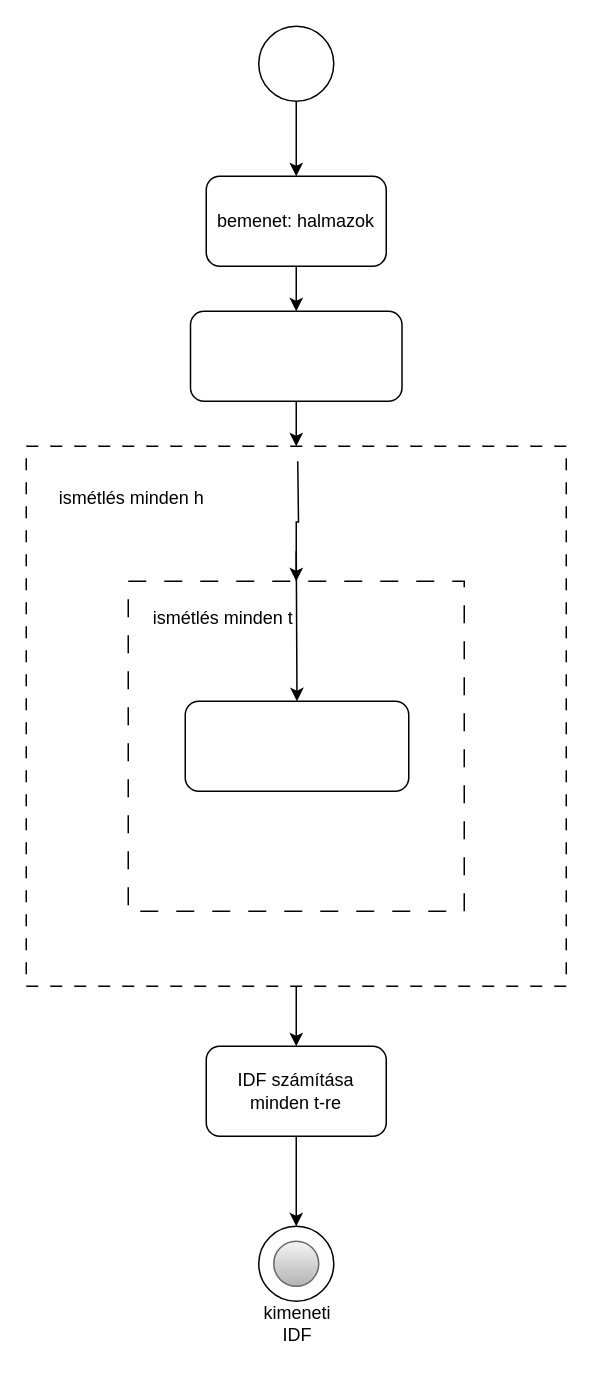
Image size: 593x1373. Some labels were removed from this diagram. The shapes that lost their labels are listed below. From the top down, each one's centre as x and y in pixels, then its label:
point 295,355: n=max(1,len(halmazok))
point 296,745: gyak [t]=gyak.get(t,0)+1
